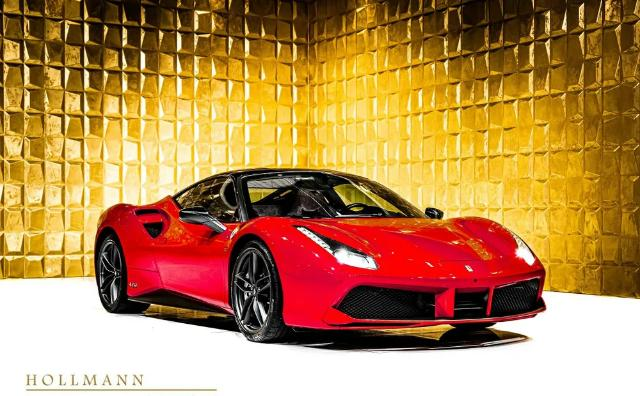ferrari: (95, 169, 548, 344)
